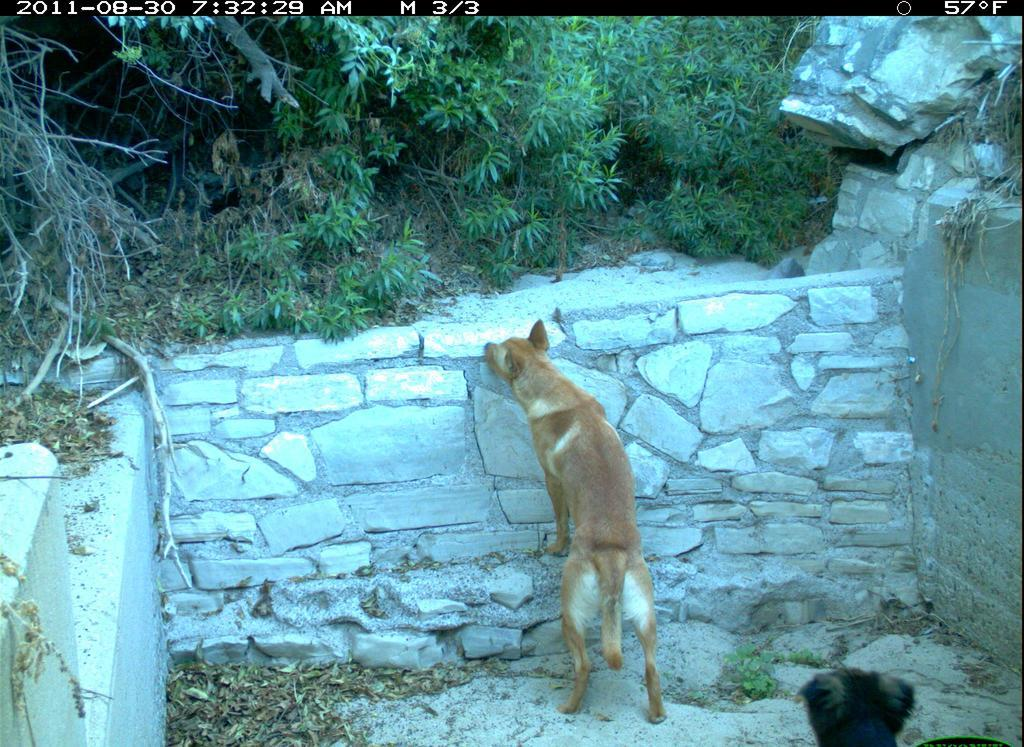dog: (478, 315, 697, 722), (784, 656, 935, 747)
